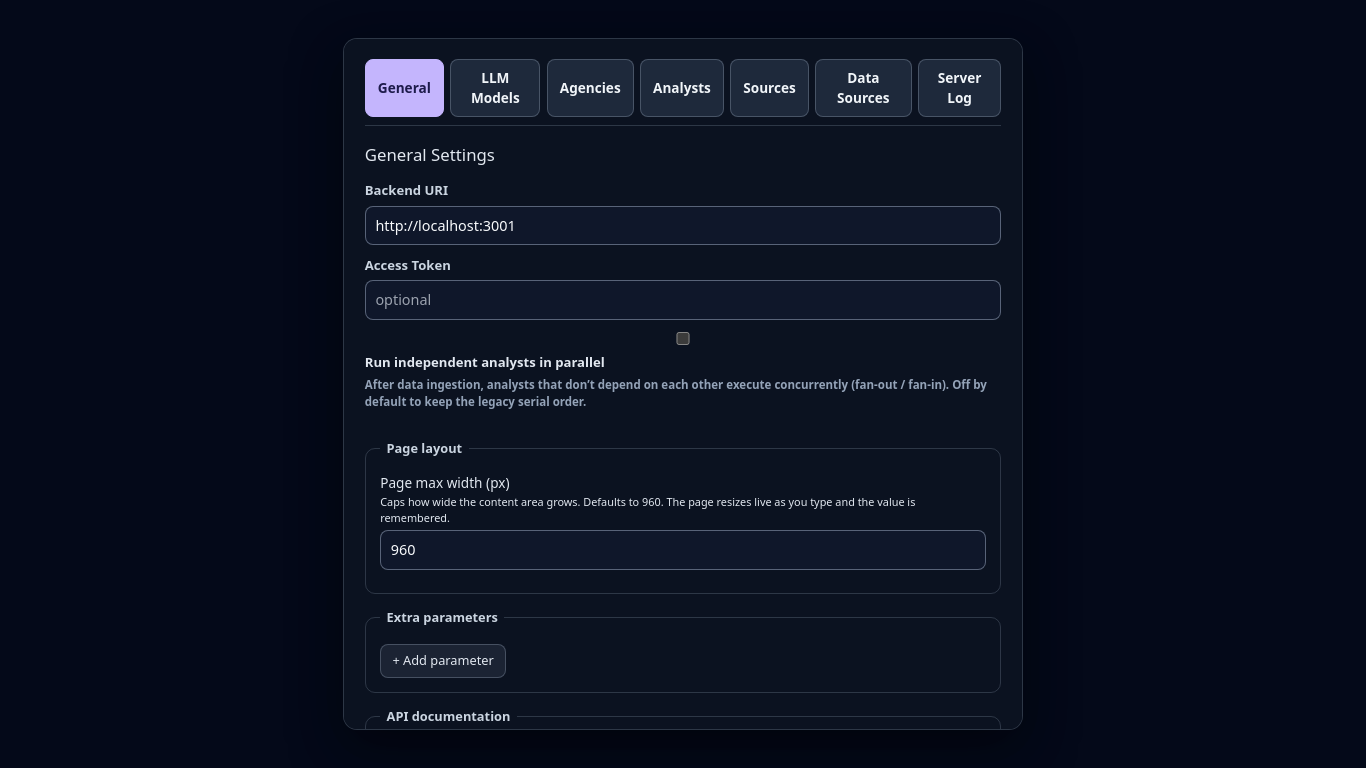
SettingsDialog — Agencies tab › lists agencies and marks the default as non-deletable
What coordinates should you click on to do the following:
click the tab with test id "tab-agencies"
I would click on:
 (590, 88)
Its box is x1=547 y1=59 x2=634 y2=117.
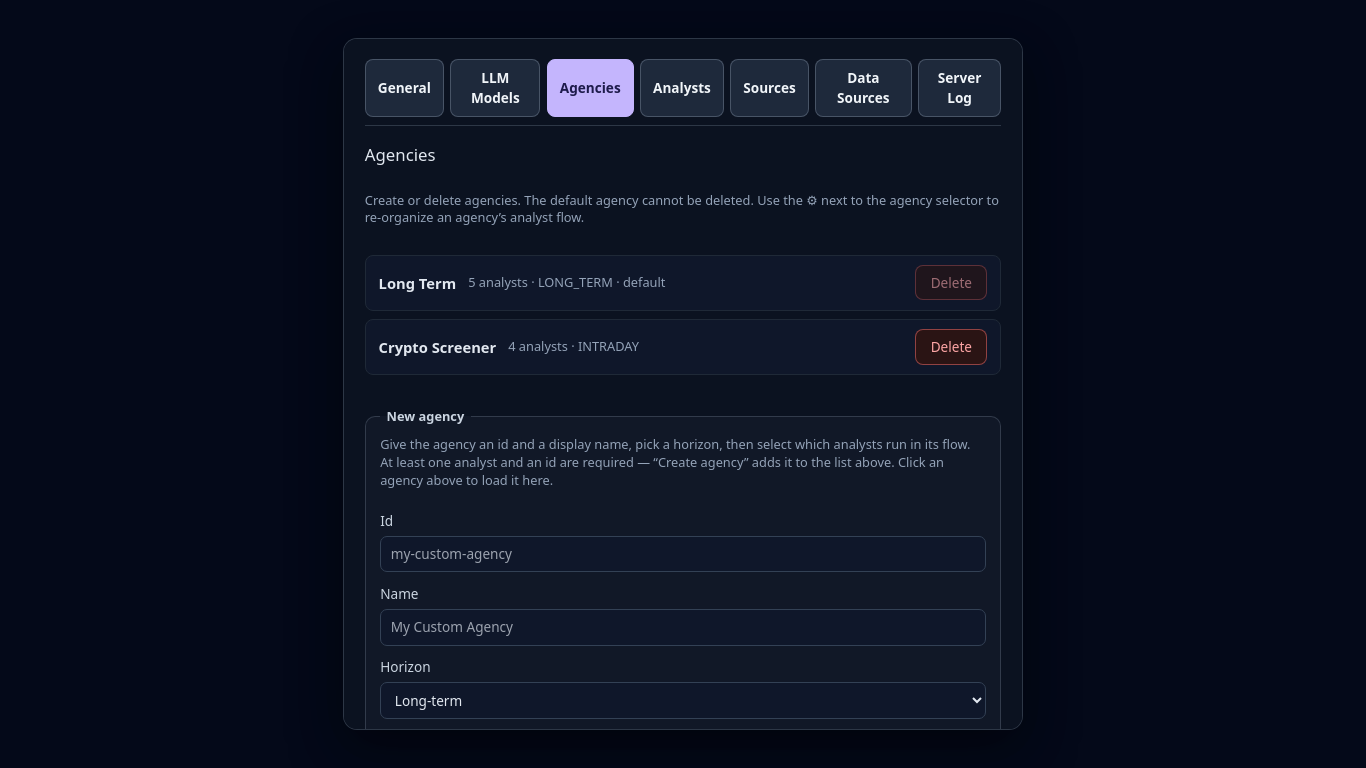
Expected: the list item with test id "agency-admin-long-term" is shown, x1=365 y1=254 x2=1001 y2=311
Expected: the list item with test id "agency-admin-crypto-screener" is shown, x1=365 y1=319 x2=1001 y2=375
Expected: the button with test id "agency-delete-long-term" is disabled, x1=915 y1=265 x2=987 y2=300
